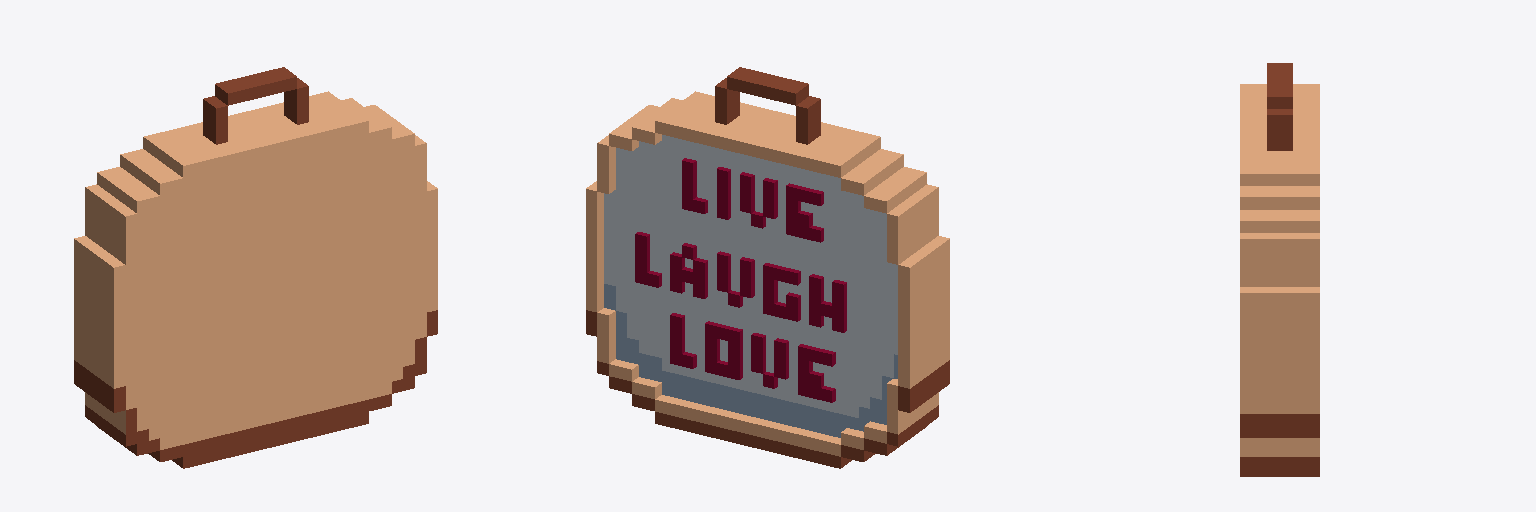
File: LLLSign.obj
3 views of the same model, side by side, from view 1: azimuth 30°, elevation 25°; view 2: azimuth 150°, elevation 25°; view 3: azimuth 270°, elevation 25° (orthographic).
Bounding box in the file's own units: 28 × 29 × 6.